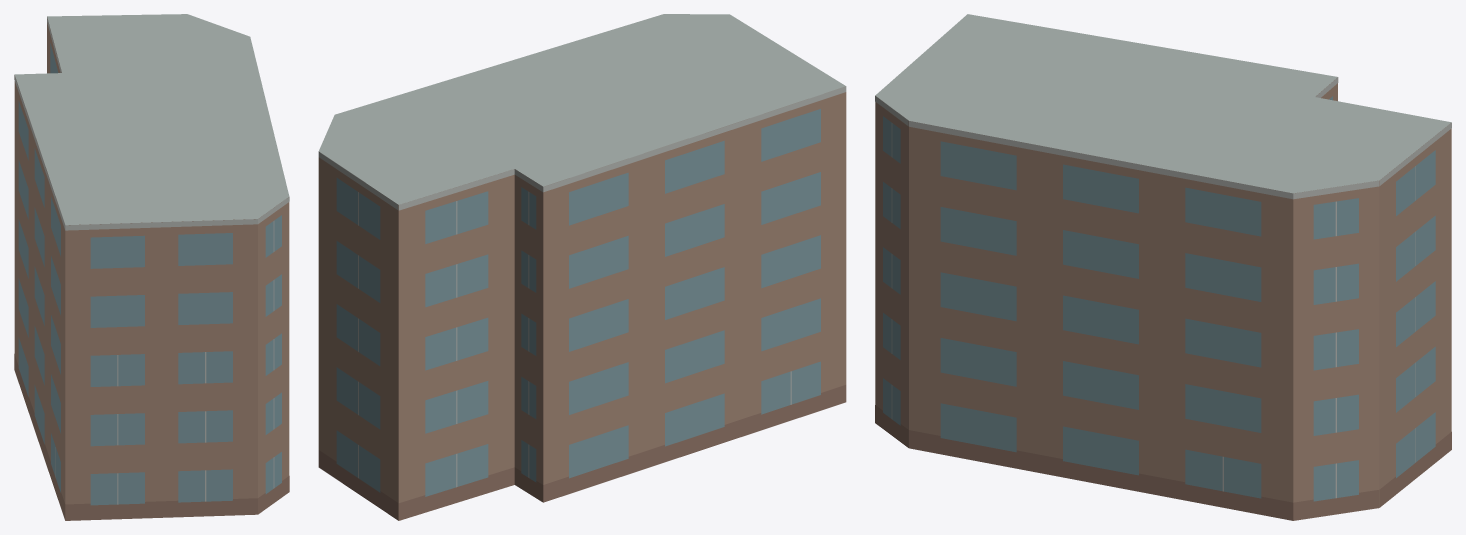
Rendered from survey-upis-33036095.glb.
The picture shows the model from 3 angles, left to right: view 1: azimuth 30°, elevation 25°; view 2: azimuth 150°, elevation 25°; view 3: azimuth 270°, elevation 25°; orthographic projection. The views are drawn at different scales.
Visible parts, largest first — view 1: survey-upis-33036095.tmp; view 2: survey-upis-33036095.tmp; view 3: survey-upis-33036095.tmp.
Part boxes in pixels (bbox=[...]): survey-upis-33036095.tmp: bbox=[14, 14, 289, 520]; survey-upis-33036095.tmp: bbox=[318, 14, 846, 520]; survey-upis-33036095.tmp: bbox=[875, 14, 1451, 520].
Bounding box in the file's own units: 15.87 × 13.5 × 21.55.
